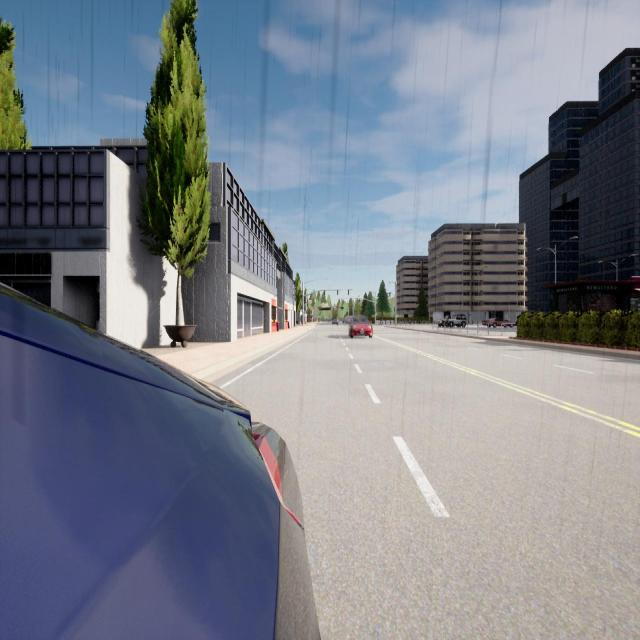Vehicle: (0, 279, 322, 640), (349, 316, 373, 339), (448, 314, 468, 327), (493, 319, 516, 328), (482, 317, 498, 328), (437, 315, 450, 327), (342, 316, 350, 323), (332, 318, 338, 325)
traffic_light: (374, 310, 376, 314), (394, 306, 395, 312), (324, 290, 325, 295), (337, 290, 338, 295), (348, 290, 349, 295), (390, 293, 390, 297)
